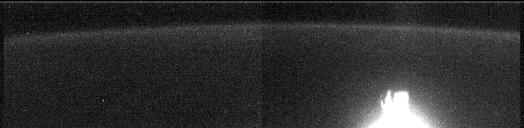positive: (378, 89, 411, 119)
